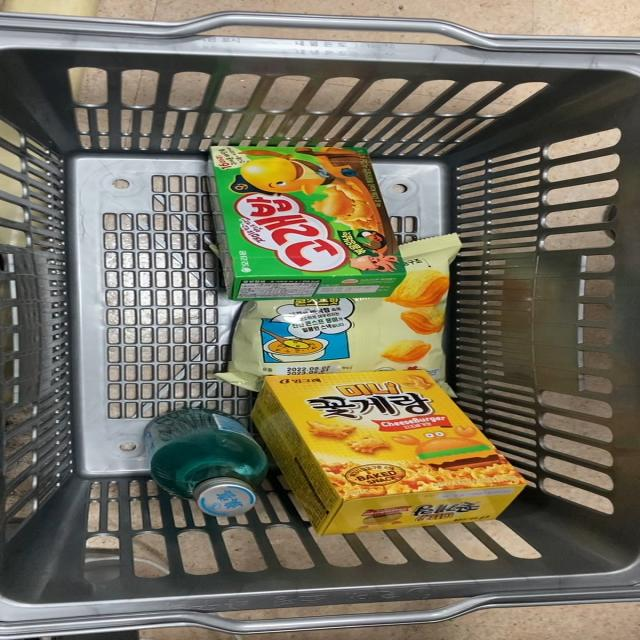ggobukchip: (223, 291, 464, 367)
goraebob: (206, 134, 420, 300)
jinro: (146, 396, 270, 529)
minicrab: (262, 371, 523, 530)
